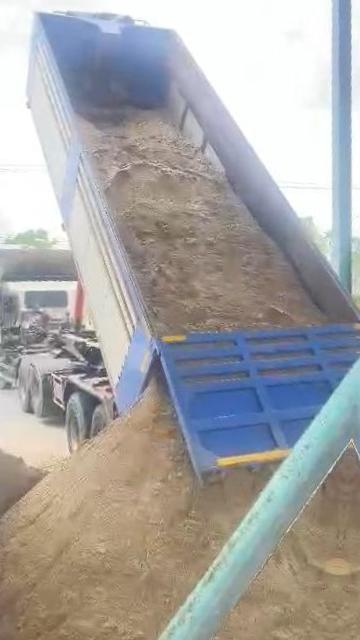sand: (0, 384, 271, 640), (81, 108, 326, 334), (198, 460, 349, 640), (0, 436, 43, 552)
